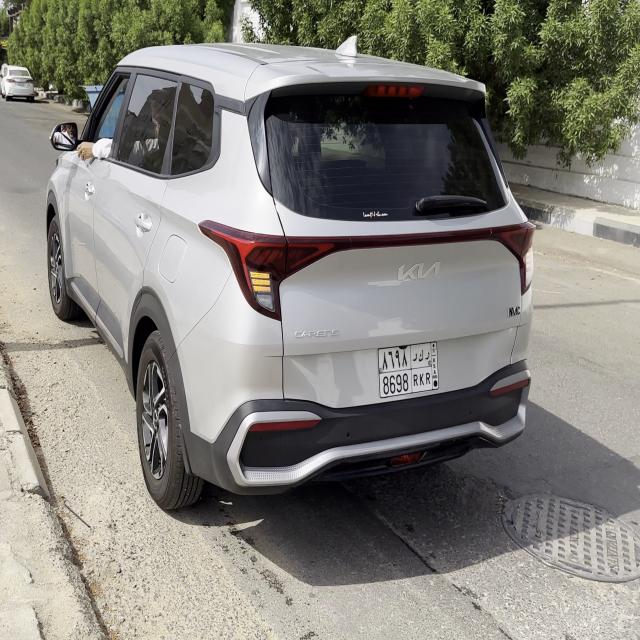Car-plate: (369, 334, 443, 404)
